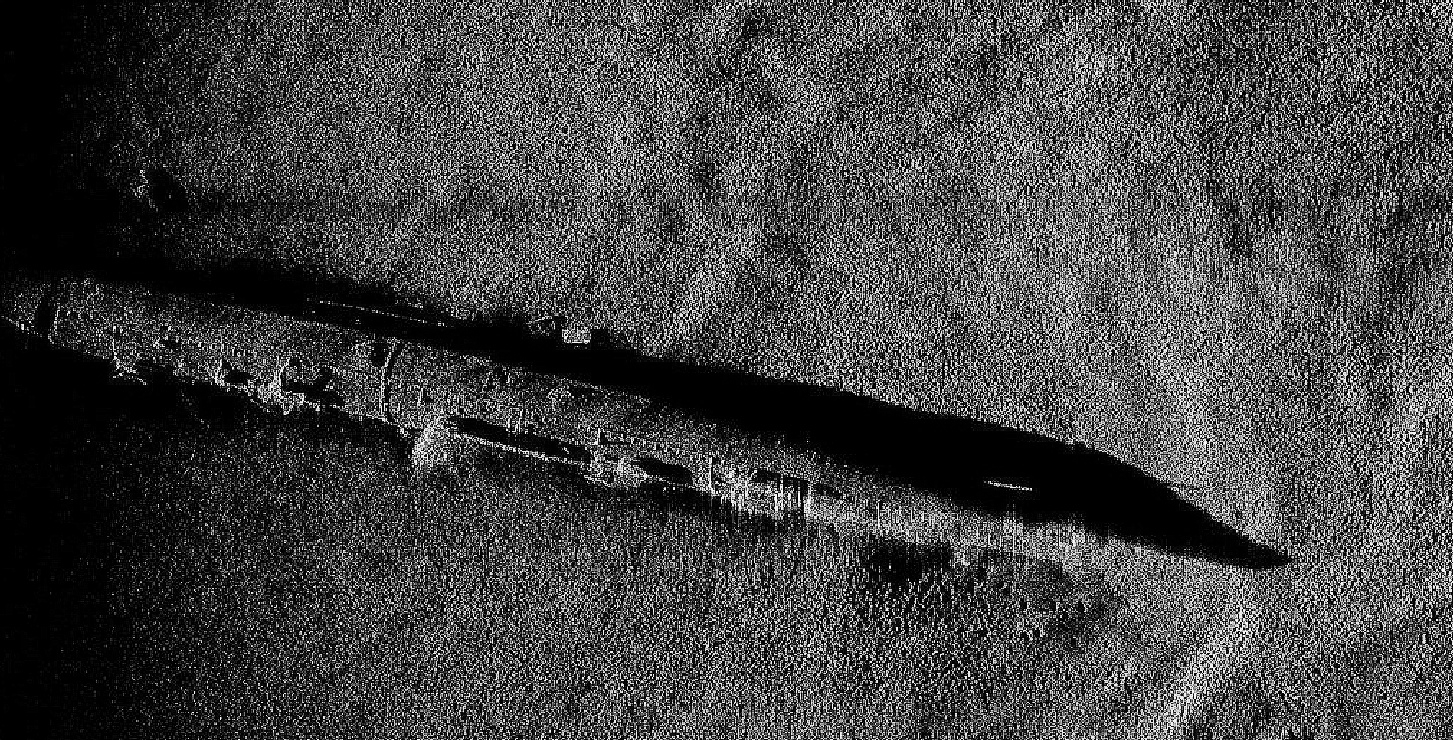ship: (13, 266, 1274, 596)
